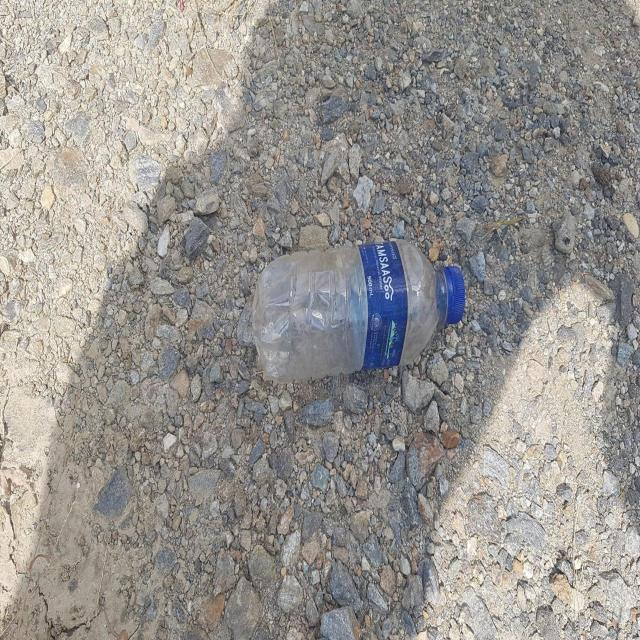plastic: (252, 239, 466, 382)
